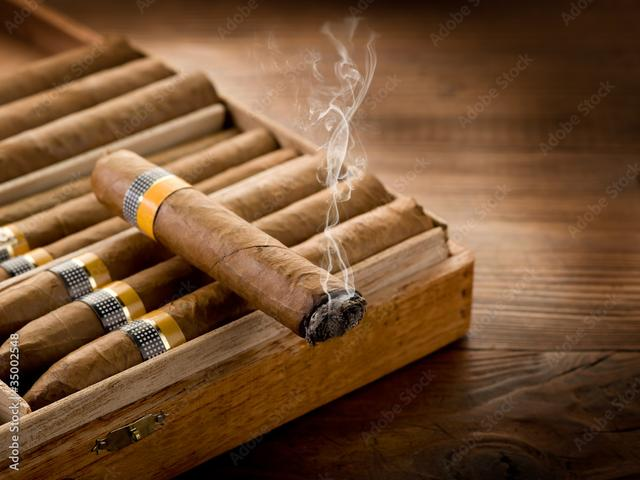Cigar: (21, 200, 428, 411), (1, 174, 392, 378), (1, 153, 342, 330), (89, 147, 368, 345), (1, 69, 215, 176), (1, 56, 171, 140), (1, 36, 137, 95)
